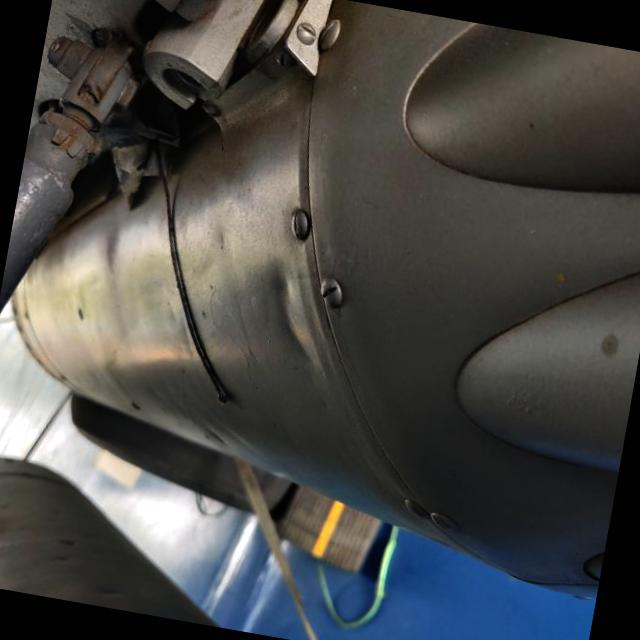dent: (258, 241, 386, 355)
